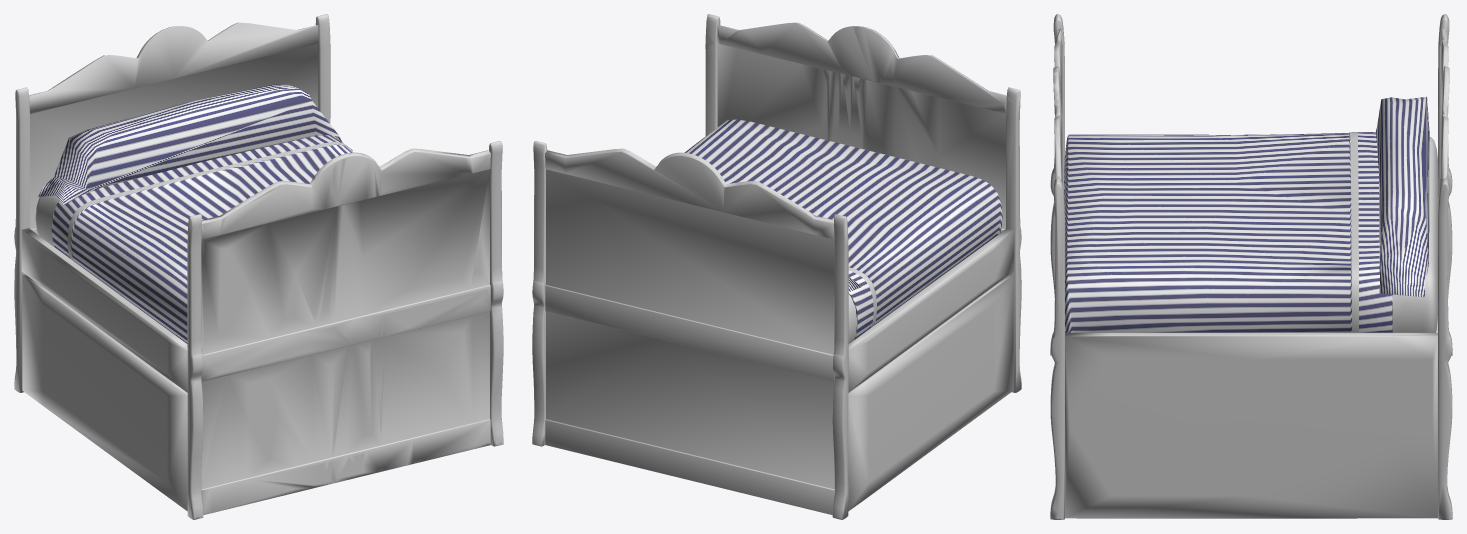
Rendered from sh-scopia-children-bed.glb.
The picture shows the model from 3 angles, left to right: view 1: azimuth 30°, elevation 25°; view 2: azimuth 150°, elevation 25°; view 3: azimuth 270°, elevation 25°; orthographic projection. The views are drawn at different scales.
Parts seen in each view (by area): view 1: Cube.001, Cube.002_Cube.003; view 2: Cube.001; view 3: Cube.001, Cube.002_Cube.003.
Boxes of the visible parts, <box> form: Cube.001: <box>14,14,503,519</box>; Cube.002_Cube.003: <box>38,84,342,205</box>; Cube.001: <box>532,14,1021,519</box>; Cube.001: <box>1050,14,1452,519</box>; Cube.002_Cube.003: <box>1376,96,1429,297</box>.
Bounding box in the file's own units: 1 × 1 × 1.
Materials: 3 (2 with a texture image).
